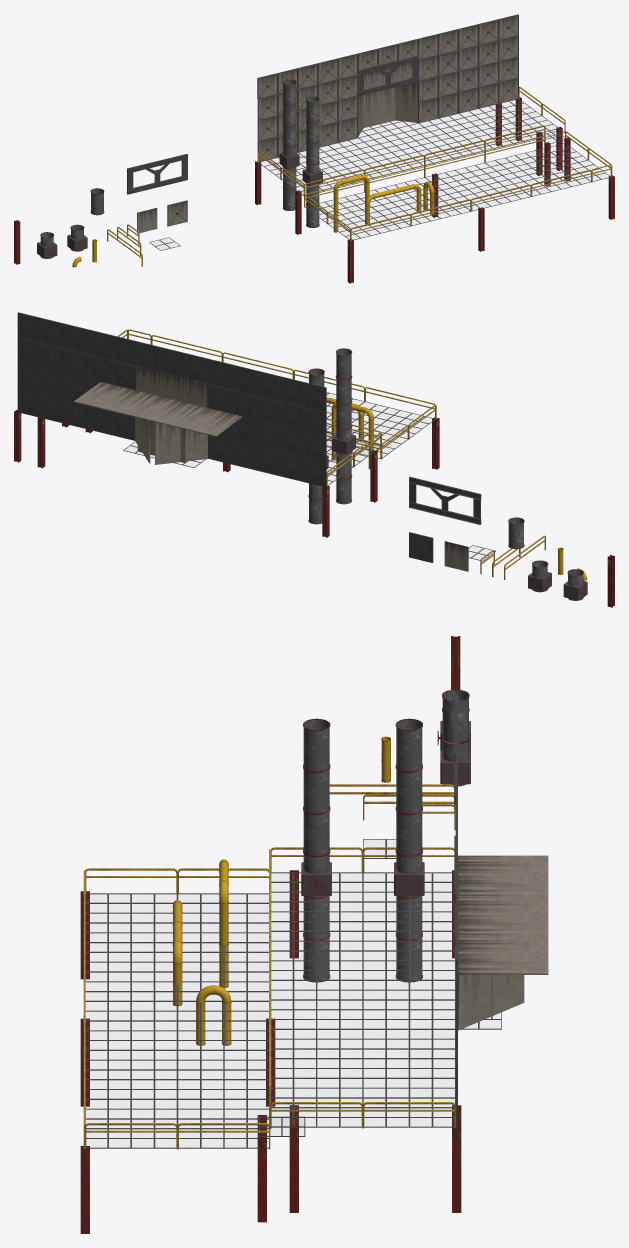
Rendered from geothermal_modular_kit_from_jurassic_dream_2.0.glb.
3 renders of one model, top to bottom at view 1: azimuth 30°, elevation 25°; view 2: azimuth 150°, elevation 25°; view 3: azimuth 270°, elevation 25°, orthographic. The views are drawn at different scales.
Visible parts, largest first — view 1: JD_Geotyhermal_WallTiles-material (×39), JD_Geotyhermal_Pipes-material (×4); view 2: JD_Geotyhermal_WallTiles-material (×52), JD_Geotyhermal_Pipes-material (×7), JD_Geotyhermal_Beam-material (×4); view 3: JD_Geotyhermal_Pipes-material (×14), JD_Geotyhermal_WallTiles-material (×4), JD_Geotyhermal_Beam-material (×4).
Boxes of the visible parts, <box> form: JD_Geotyhermal_WallTiles-material (×39): <box>127,14,518,233</box>; JD_Geotyhermal_Pipes-material (×4): <box>37,146,322,258</box>; JD_Geotyhermal_WallTiles-material (×52): <box>17,312,481,571</box>; JD_Geotyhermal_Pipes-material (×7): <box>332,348,587,600</box>; JD_Geotyhermal_Beam-material (×4): <box>37,417,614,607</box>; JD_Geotyhermal_Pipes-material (×14): <box>301,689,470,982</box>; JD_Geotyhermal_WallTiles-material (×4): <box>458,855,548,1030</box>; JD_Geotyhermal_Beam-material (×4): <box>80,1125,461,1233</box>.
Size of the model in its own units: 50.42 by 12.97 by 20.18.
Materials: 3 (3 with a texture image).
